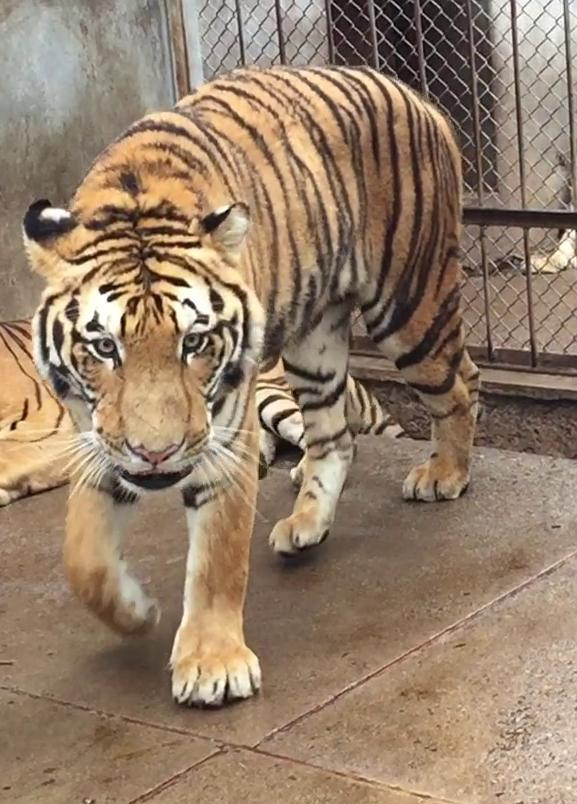tiger: (23, 66, 478, 704)
